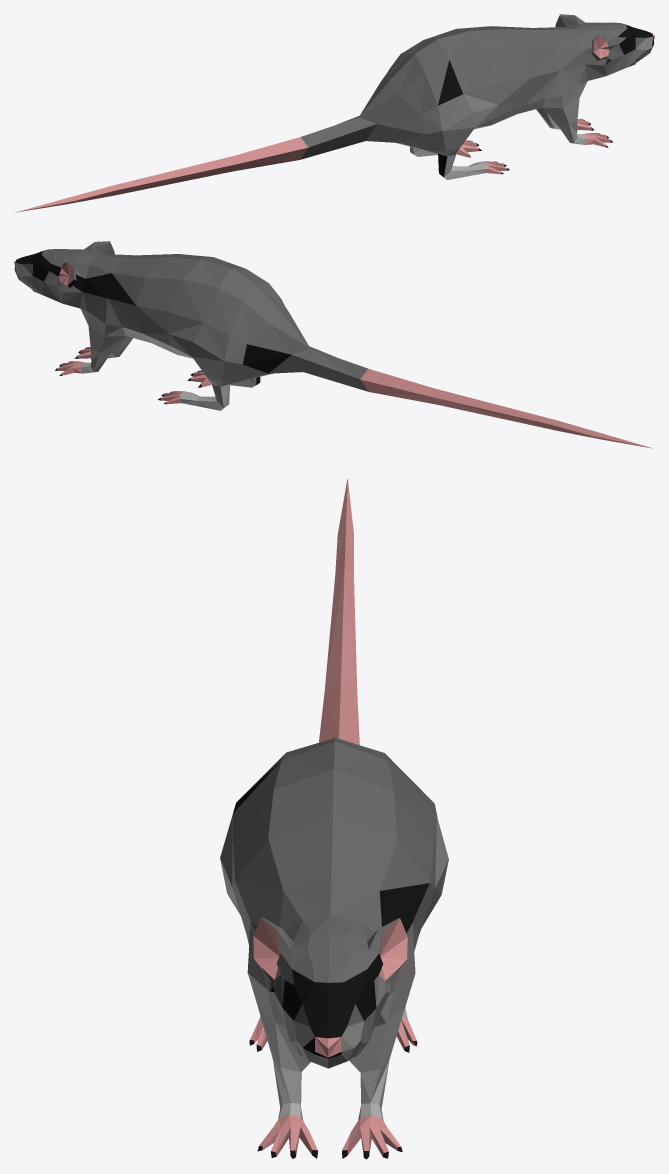
The model's file is topo.fbx.
3 views of the same model, one above another, from view 1: azimuth 30°, elevation 25°; view 2: azimuth 150°, elevation 25°; view 3: azimuth 270°, elevation 25° (orthographic). The views are drawn at different scales.
Parts seen in each view (by area): view 1: grp1; view 2: grp1; view 3: grp1.
Boxes of the visible parts, x1=… form: grp1: x1=15, y1=14, x2=654, y2=212; grp1: x1=14, y1=241, x2=653, y2=448; grp1: x1=220, y1=478, x2=448, y2=1159.
Size of the model in its own units: 144 by 28.63 by 22.48.
